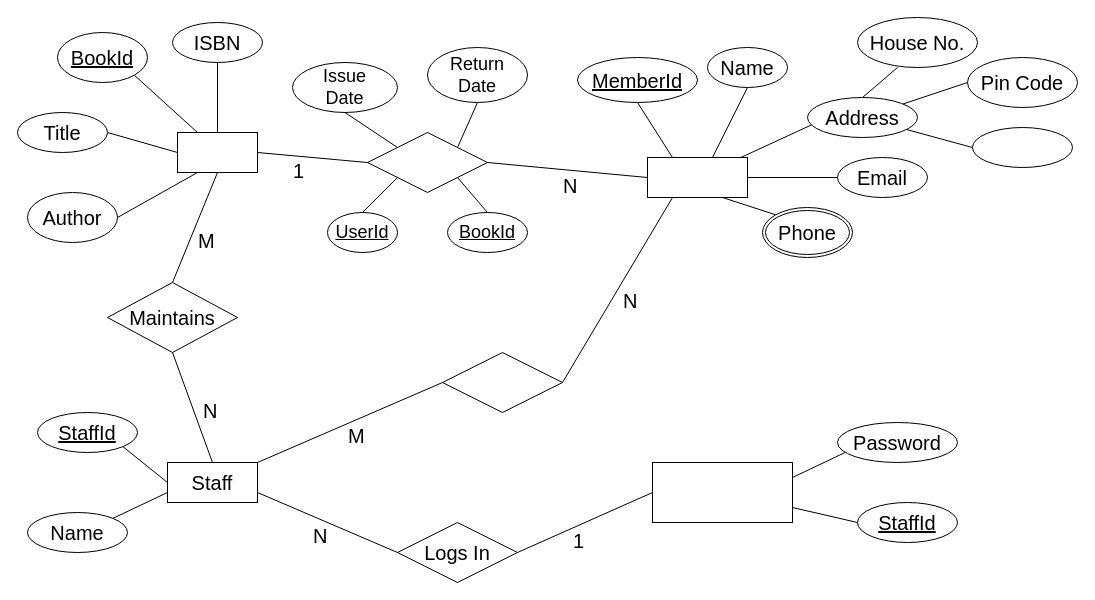
The diagram is 1095 pixels wide and 600 high, and some of its shapes have lost their labels. The shapes that lost their labels are listed below. From the top down, each one's centre as x and y in pixels, then its label:
At pixel 217 152: "Book".
At pixel 427 162: "Reserve".
At pixel 1022 147: "Street".
At pixel 697 177: "Members".
At pixel 502 382: "Tracks".
At pixel 722 492: "Authentication System".
